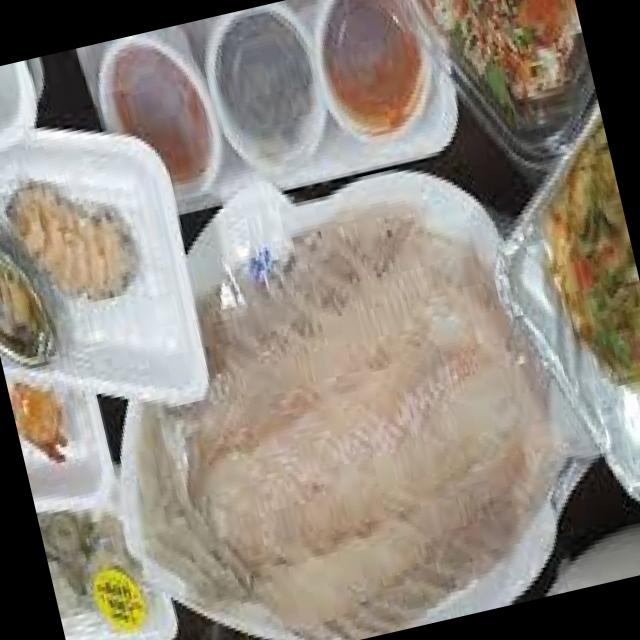aluminum foil: (491, 98, 640, 501)
plastic-cup: (206, 1, 328, 176), (311, 0, 434, 148)
plastic-wrapper: (399, 0, 594, 180)
styrofoam: (58, 126, 630, 640), (75, 0, 460, 216), (0, 123, 210, 409), (6, 379, 112, 515)
